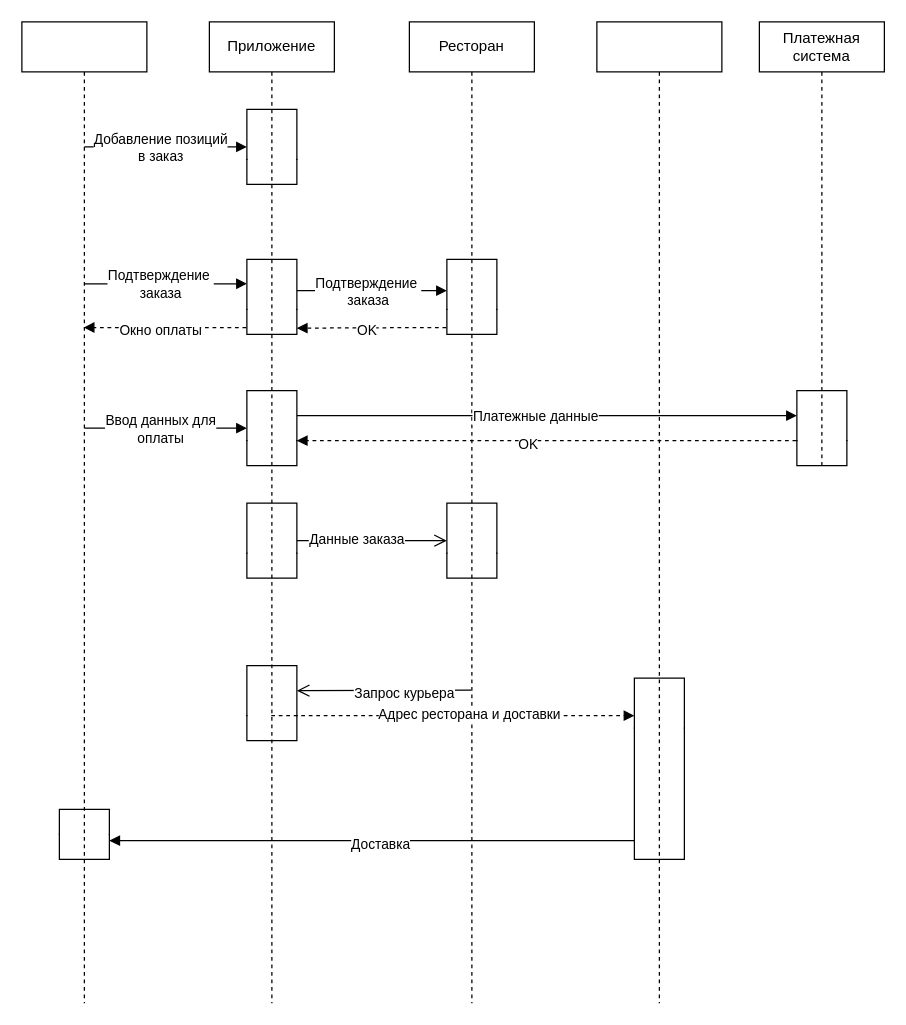
The diagram is 906 pixels wide and 1025 high, and some of its shapes have lost their labels. The box of each missing label's shape, as (x1, y1, x2, y2) in pixels:
Курьер: (596, 21, 722, 1003)
Пользователь: (21, 21, 147, 1003)
